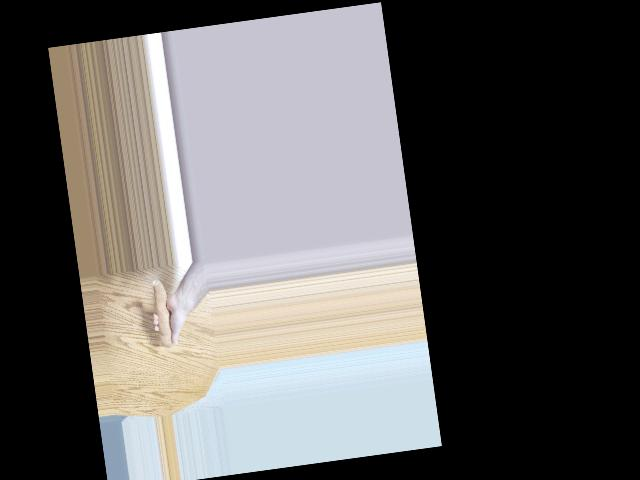sweet_potato: (151, 276, 181, 349)
